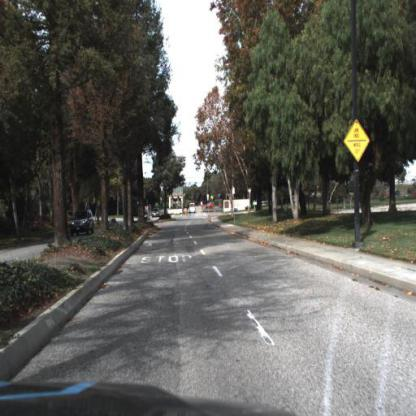biker: (183, 201, 190, 220)
car: (70, 208, 97, 239), (69, 209, 96, 237), (141, 212, 150, 224), (152, 208, 161, 220), (190, 202, 198, 215)
